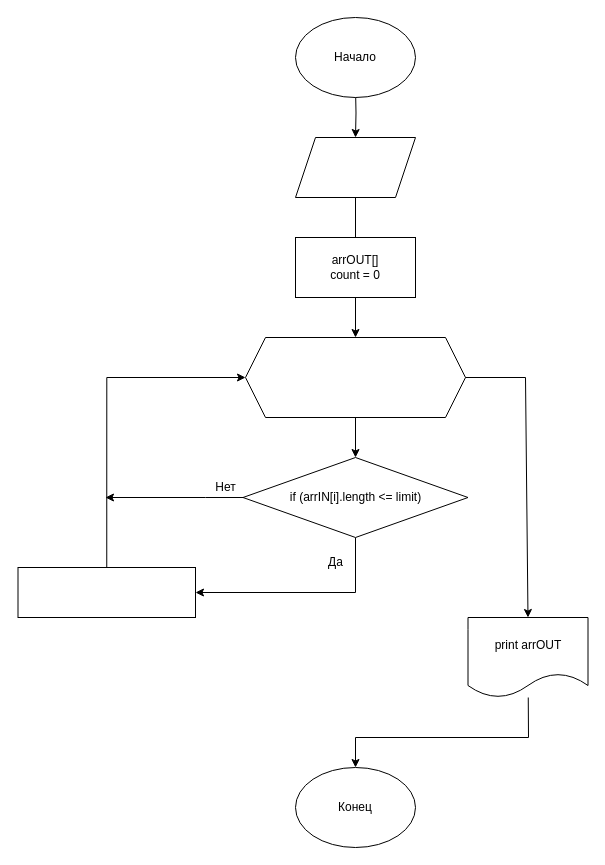
The diagram is 605 pixels wide and 865 high, and some of its shapes have lost their labels. The centre of each missing label's shape, as x and y in pixels:
arrIN[] limit: pixel 355 167
arrOUT[count] = arrIN[i] count++: pixel 106 592
i = 0, i < arrIN.length: pixel 355 377
